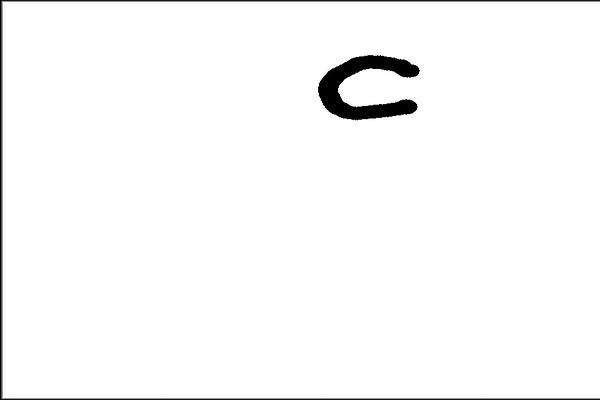C: (313, 48, 422, 126)
